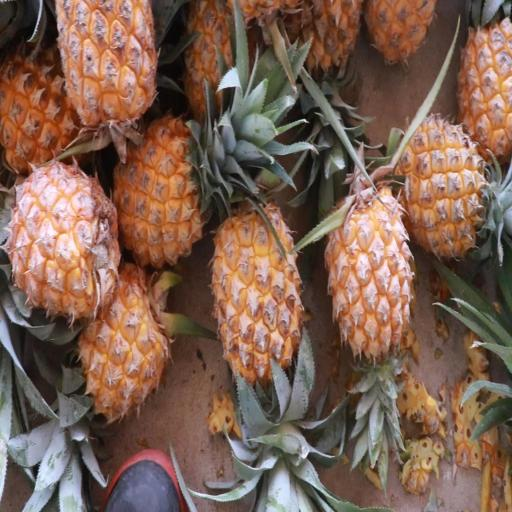Pineapple - v8 v1: (208, 201, 306, 403), (8, 164, 123, 330), (68, 258, 172, 428), (322, 182, 416, 368), (54, 0, 165, 146), (109, 109, 203, 274), (391, 110, 492, 260), (456, 0, 512, 160)
